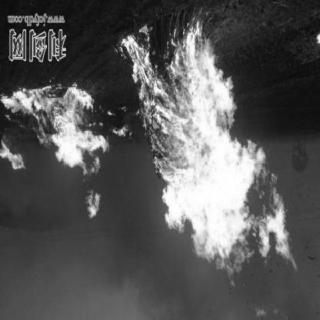Fire: (123, 19, 305, 292), (2, 82, 112, 218)
